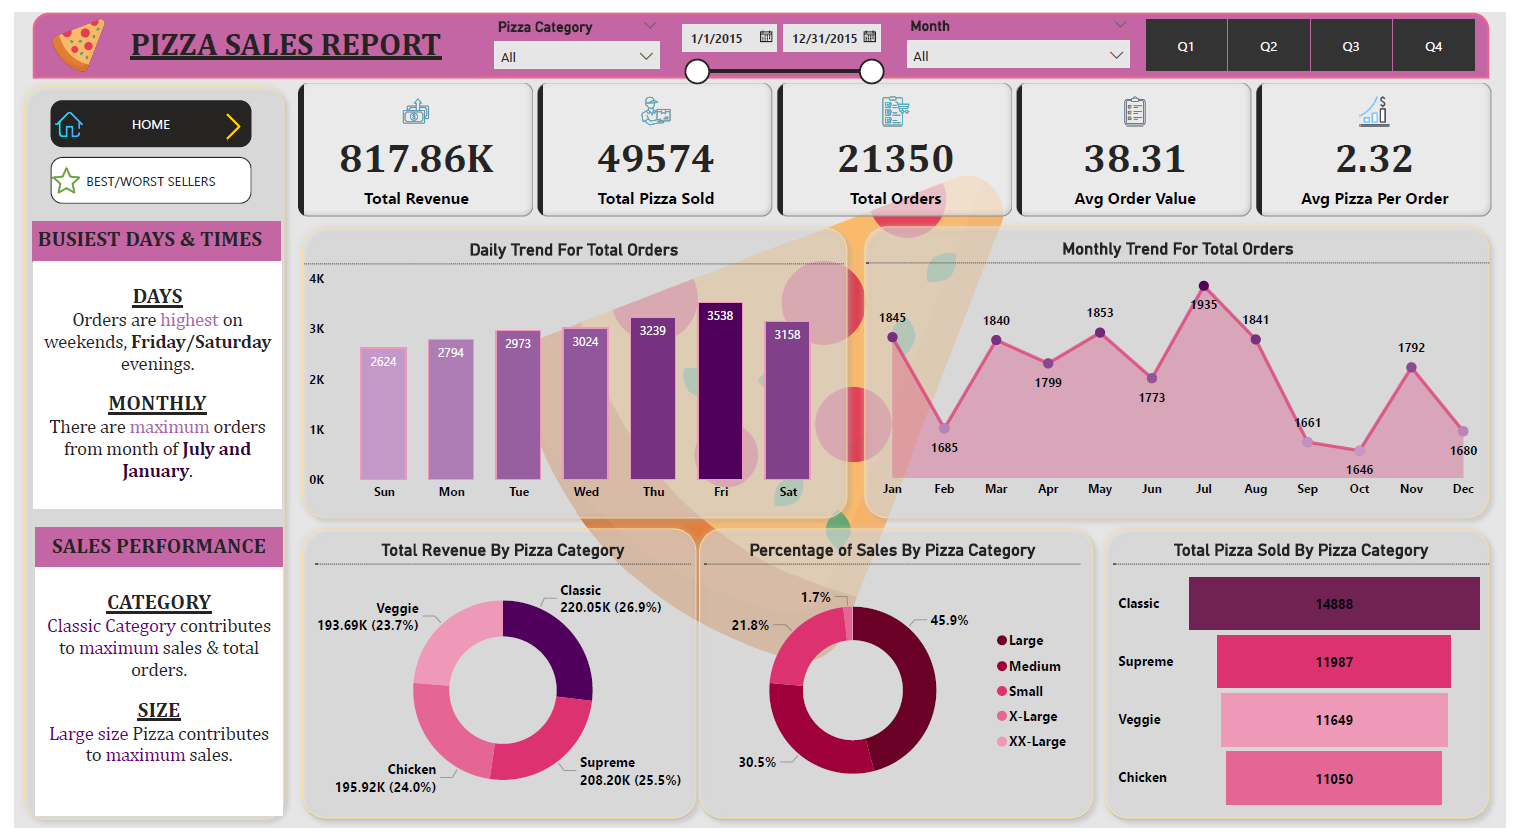

What the dashboard file says about the page in this screenshot:
{"tool":"powerbi","page":{"name":"HOME","canvas":[1500,820],"ordinal":0},"visuals":[{"type":"shape","box":[0,64.6,280.3,755.7],"z":0},{"type":"cardVisual","fields":{"Data":["All_Measures.Total_Revenue","All_Measures.Total_Pizza_Sold","All_Measures.Total_Orders","All_Measures.Avg_Ord_Value","All_Measures.Avg_Pizza_Per_Order"]},"box":[280,65.7,1211.4,144.3],"z":1000},{"type":"shape","box":[17.9,0,1464.7,66],"z":2000},{"type":"textbox","box":[111.3,6.9,335.3,53.6],"z":3000},{"type":"image","box":[17.9,0,93.4,64.6],"z":4000},{"type":"shape","box":[280,207.1,565.7,310],"z":5000},{"type":"columnChart","title":"Daily Trend For Total Orders","fields":{"Y":["All_Measures.Total_Orders"],"Category":["Calendar.Order_Day"]},"box":[291.1,228.4,543.1,270.2],"z":6000},{"type":"shape","box":[846.4,206.1,645.8,310.5],"z":7000},{"type":"areaChart","title":"Monthly Trend For Total Orders","fields":{"Category":["Calendar.Month"],"Y":["All_Measures.Total_Orders"]},"box":[857.4,226.7,625.2,269.3],"z":8000},{"type":"shape","box":[280.3,509.8,413.6,310.5],"z":9000},{"type":"shape","box":[680.1,509.8,413.6,310.5],"z":10000},{"type":"shape","box":[1086.8,509.8,405.3,310.5],"z":11000},{"type":"donutChart","title":"Total Revenue By Pizza Category","fields":{"Y":["All_Measures.Total_Revenue"],"Category":["pizza_sales.pizza_category"]},"box":[302.3,530.4,377.9,276.2],"z":12000},{"type":"donutChart","title":"Percentage of Sales By Pizza Category","fields":{"Y":["All_Measures.Total_Revenue"],"Category":["pizza_sales.pizza_size"]},"box":[693.9,530.4,377.9,276.2],"z":13000},{"type":"funnel","title":"Total Pizza Sold By Pizza Category","fields":{"Category":["pizza_sales.pizza_category"],"Y":["All_Measures.Total_Pizza_Sold"]},"box":[1104.7,530.4,377.9,276.2],"z":14000},{"type":"textbox","box":[17.9,210.2,248.7,39.8],"z":15000},{"type":"textbox","box":[19.2,250.1,248.7,248.7],"z":16000},{"type":"textbox","box":[20.6,518,248.7,39.8],"z":17000},{"type":"textbox","box":[20.6,557.8,248.7,248.7],"z":18000},{"type":"slicer","fields":{"Values":["pizza_sales.pizza_category"]},"box":[472.7,1.4,185.5,61.8],"z":19000},{"type":"slicer","fields":{"Values":["Calendar.order_date"]},"box":[658.1,1.4,225.3,76.9],"z":20000},{"type":"slicer","fields":{"Values":["Calendar.Order_Quarter"]},"box":[1111.6,0,380.6,64.6],"z":21000},{"type":"slicer","fields":{"Values":["Calendar.Month"]},"box":[887.6,0,243.2,64.6],"z":22000},{"type":"pageNavigator","box":[35.7,87.9,202,104.4],"z":23000},{"type":"image","box":[35.7,87.9,37.1,49.5],"z":24000},{"type":"image","box":[200.6,87.9,37.1,52.2],"z":25000},{"type":"image","box":[33,141.5,37.1,52.2],"z":26000}]}

Visuals, with their boxes in screenshot pixels (x1, y1, x2, y2), scaled from the page's 1500x820 canvas onto the 1516x836 screenshot:
shape: 0:66:283:835
cardVisual - All_Measures.Total_Revenue x All_Measures.Total_Pizza_Sold: 283:67:1507:214
shape: 18:0:1498:67
textbox: 112:7:451:62
image: 18:0:112:66
shape: 283:211:855:527
"Daily Trend For Total Orders" columnChart: 294:233:843:508
shape: 855:210:1508:527
"Monthly Trend For Total Orders" areaChart: 867:231:1498:506
shape: 283:520:701:835
shape: 687:520:1105:835
shape: 1098:520:1508:835
"Total Revenue By Pizza Category" donutChart: 306:541:687:822
"Percentage of Sales By Pizza Category" donutChart: 701:541:1083:822
"Total Pizza Sold By Pizza Category" funnel: 1116:541:1498:822
textbox: 18:214:269:255
textbox: 19:255:271:509
textbox: 21:528:272:569
textbox: 21:569:272:822
slicer - pizza_sales.pizza_category: 478:1:665:64
slicer - Calendar.order_date: 665:1:893:80
slicer - Calendar.Order_Quarter: 1123:0:1508:66
slicer - Calendar.Month: 897:0:1143:66
pageNavigator: 36:90:240:196
image: 36:90:74:140
image: 203:90:240:143
image: 33:144:71:197
